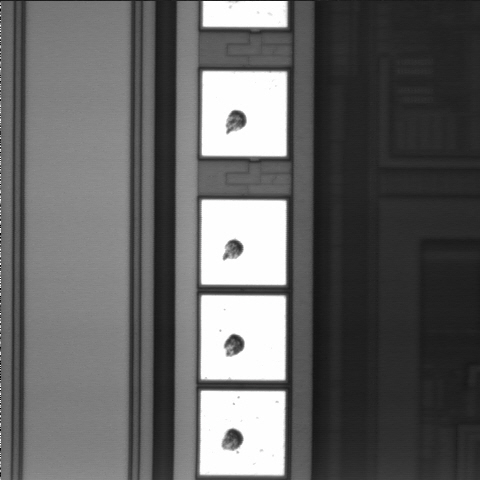pad: (202, 71, 287, 156), (201, 200, 286, 285), (201, 295, 286, 380), (200, 391, 285, 475)
